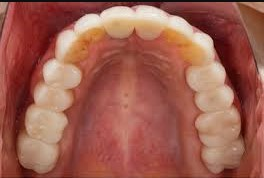UL1BC_healthy: (185, 65, 227, 89)
UL1M_healthy: (196, 111, 241, 145)
UL2BC_healthy: (196, 89, 234, 111)
UL2M_healthy: (202, 146, 243, 173)
ULCI_healthy: (136, 5, 167, 41)
ULC_healthy: (183, 33, 214, 65)
ULLI_healthy: (167, 15, 192, 48)
UR1BC_healthy: (44, 59, 83, 90)
UR1M_healthy: (26, 105, 68, 144)
UR2BC_healthy: (34, 84, 75, 111)
UR2M_healthy: (18, 133, 60, 173)
URCI_healthy: (101, 6, 135, 40)
URC_healthy: (56, 31, 90, 62)
URLI_healthy: (76, 13, 105, 40)
